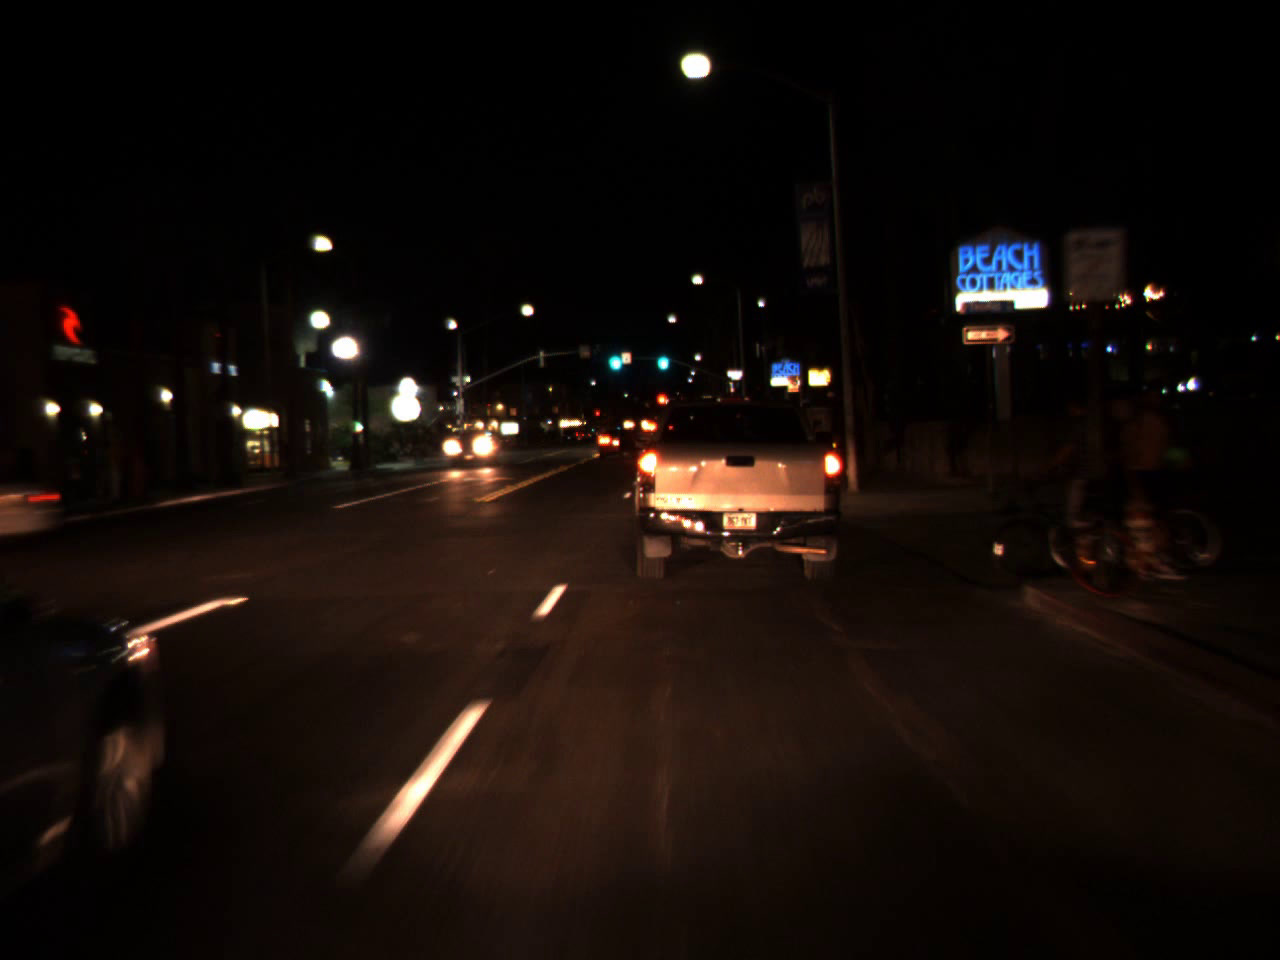go: (604, 339, 625, 375), (653, 341, 671, 374)
